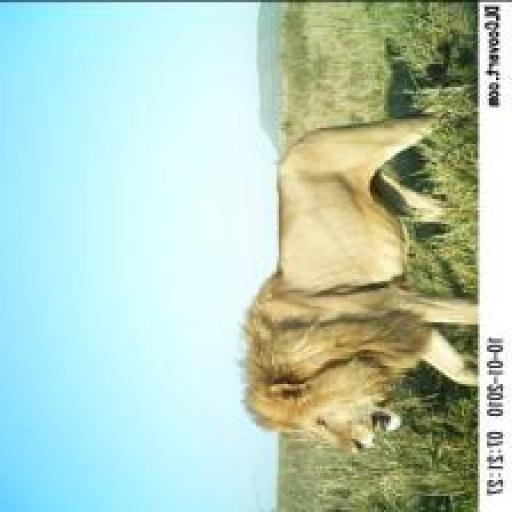lion: (224, 103, 480, 458)
